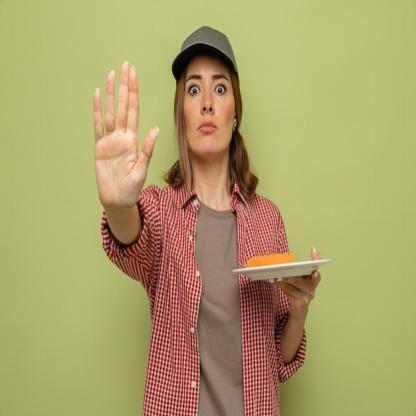stop: (90, 57, 161, 213)
